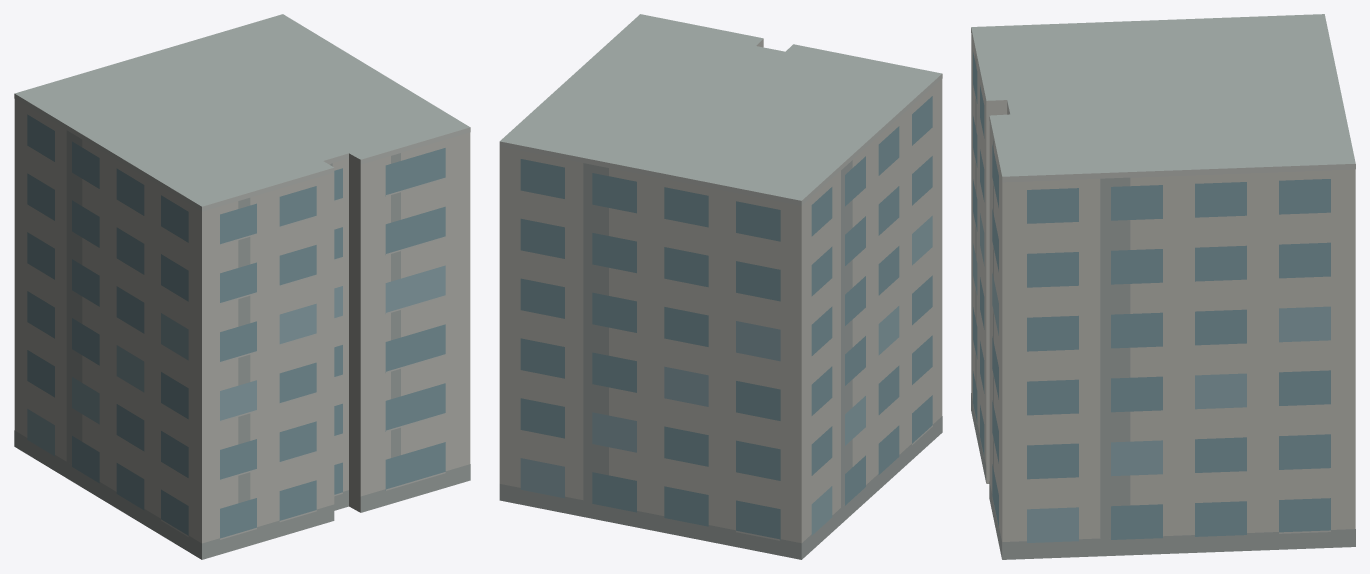
Rendered from survey-upis-32915809.glb.
3 views of the same model, side by side, from view 1: azimuth 30°, elevation 25°; view 2: azimuth 150°, elevation 25°; view 3: azimuth 270°, elevation 25° (orthographic). The views are drawn at different scales.
Visible parts, largest first — view 1: survey-upis-32915809.tmp; view 2: survey-upis-32915809.tmp; view 3: survey-upis-32915809.tmp.
Boxes of the visible parts, x1=… form: survey-upis-32915809.tmp: x1=14, y1=14, x2=470, y2=559; survey-upis-32915809.tmp: x1=499, y1=14, x2=942, y2=559; survey-upis-32915809.tmp: x1=971, y1=14, x2=1355, y2=559.
Size of the model in its own units: 15.4 by 16.9 by 15.39.
